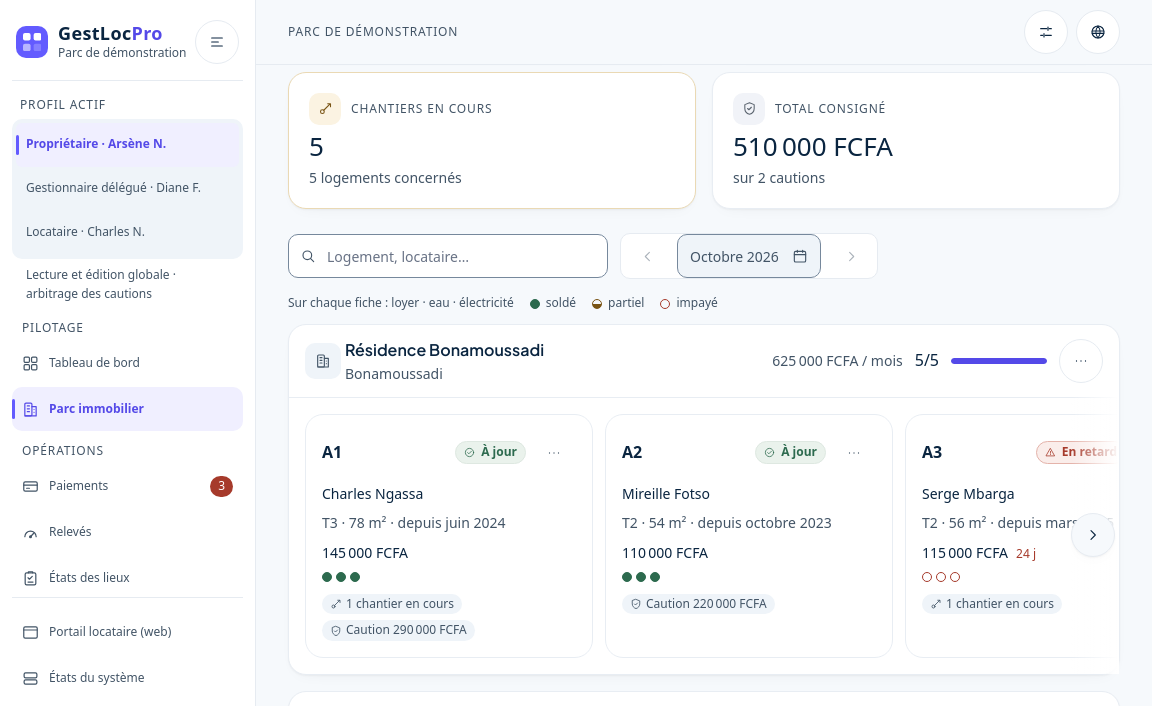
l’écran du parc › offre la correction d’un immeuble PLEIN — là où la suppression se refuse
(page scrolled)
Click the button named "Actions de l’immeuble Résidence Bonamoussadi": (1081, 361) top-left (1059, 339), bottom-right (1103, 383)
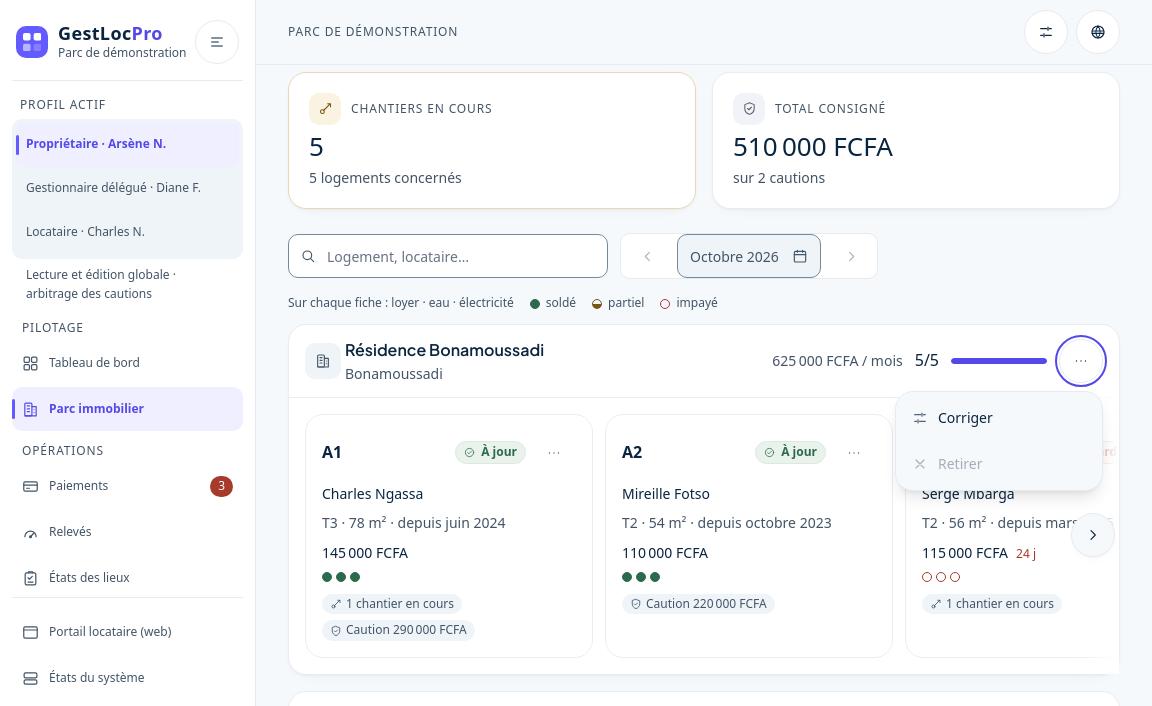
Check: the menu item with aria-label "Corriger l’immeuble Résidence Bonamoussadi" is shown, box top-left (900, 396), bottom-right (1098, 440)
